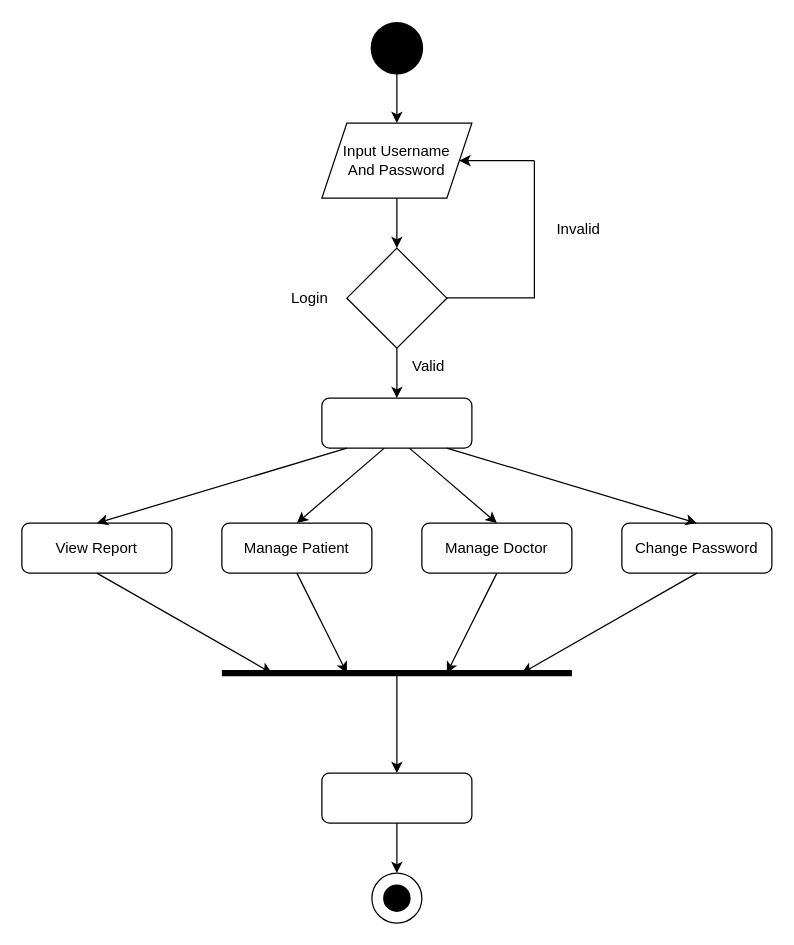
The diagram is 794 pixels wide and 945 high, and some of its shapes have lost their labels. The centre of each missing label's shape, as x and y in pixels:
"Home Page" goes at pixel 396 422.
"Logout" goes at pixel 396 797.
